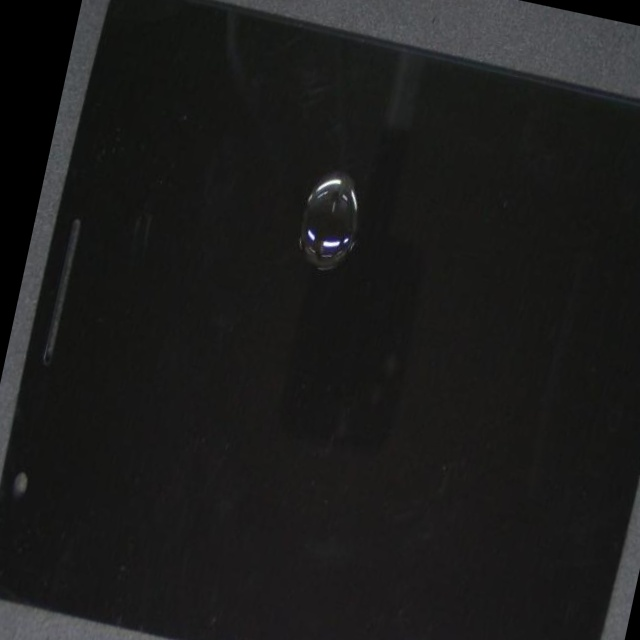oil: (198, 104, 526, 364)
